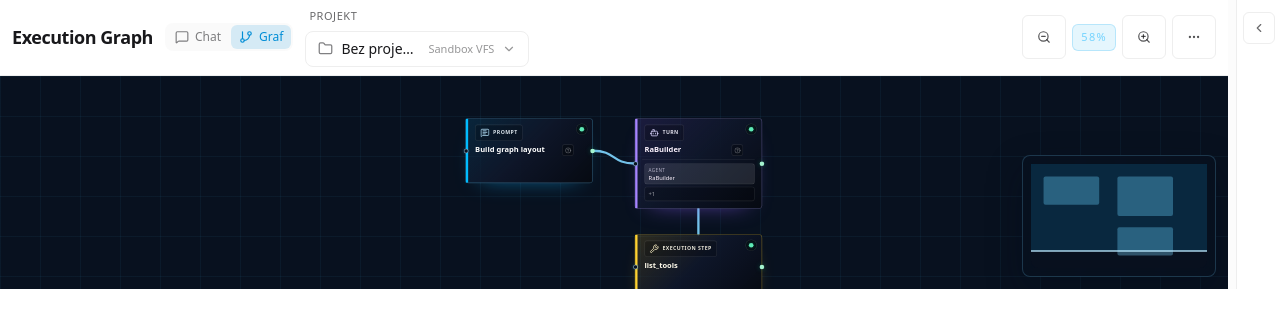
ExecutionGraphView empty-session state › keeps node properties collapsed until a graph node is selected
Expected: the button with test id "graph-inspector-expand" is disabled, [1242,12,1274,44]
Expected: the text "Node Properties" is not shown
Click the element with test id "graph-node-tool:call-list-1".
click(698, 266)  # box [635,234,762,299]
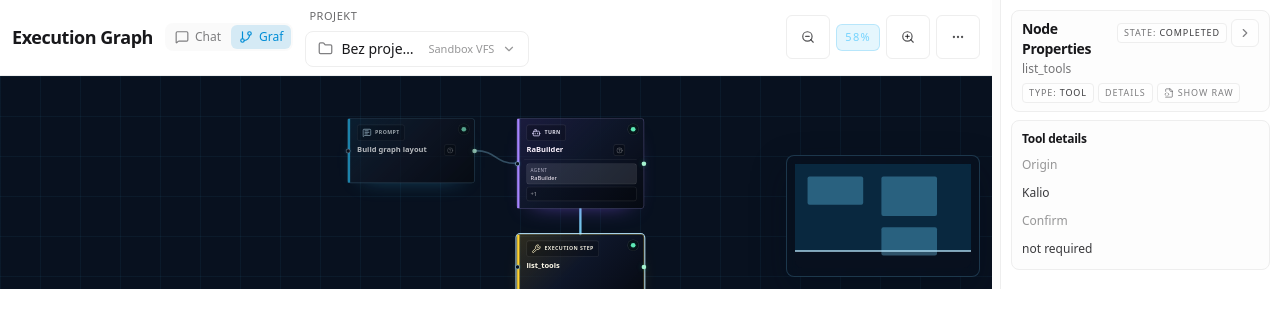
Now the heading "Node Properties" is shown, box [1022,19,1091,58]
Now the heading "Tool details" is shown, box [1022,130,1087,146]
